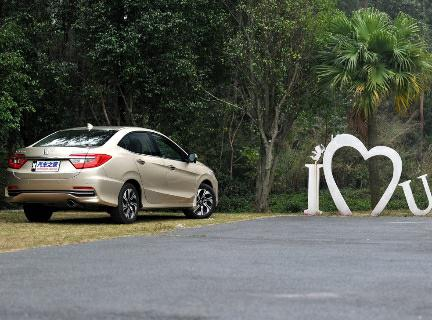本田-凌派: (4, 119, 225, 228)
